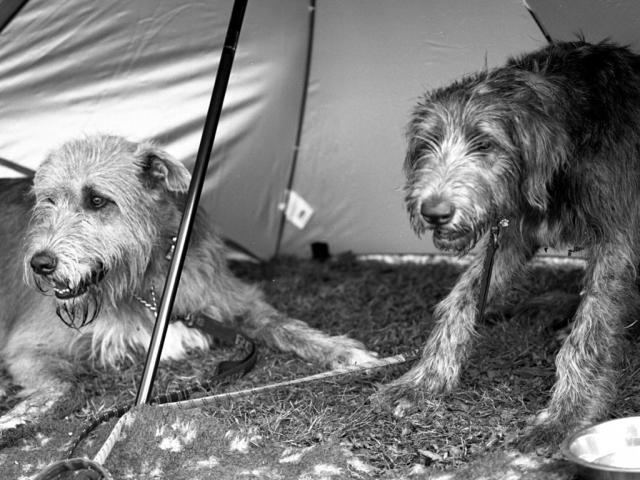Dog: (0, 128, 381, 440), (369, 28, 640, 460)
